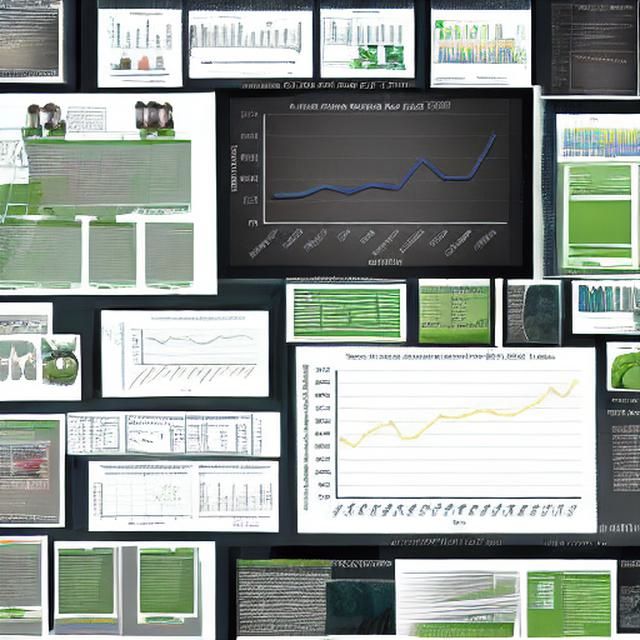Graph: (299, 347, 589, 531), (228, 97, 512, 267), (118, 312, 264, 394), (91, 471, 197, 528), (559, 50, 638, 96), (101, 11, 175, 54)
